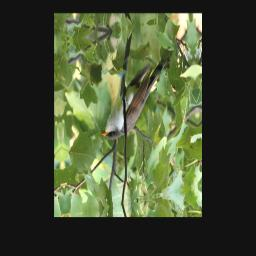Cuckoo: (97, 55, 178, 145)
